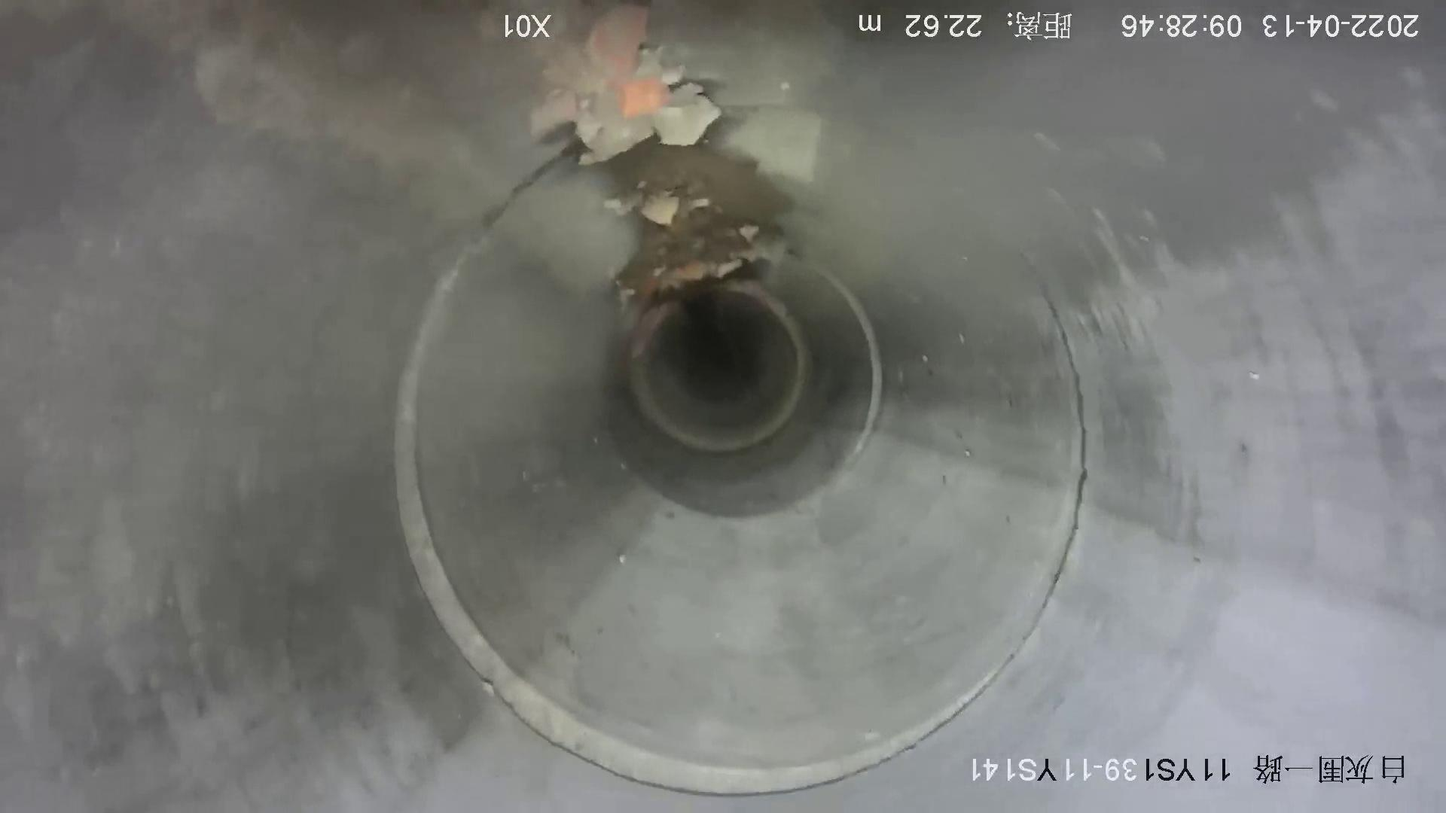CJ: (532, 1, 834, 306)
CKTJ: (395, 154, 1088, 796), (631, 282, 811, 452), (822, 269, 884, 476)
